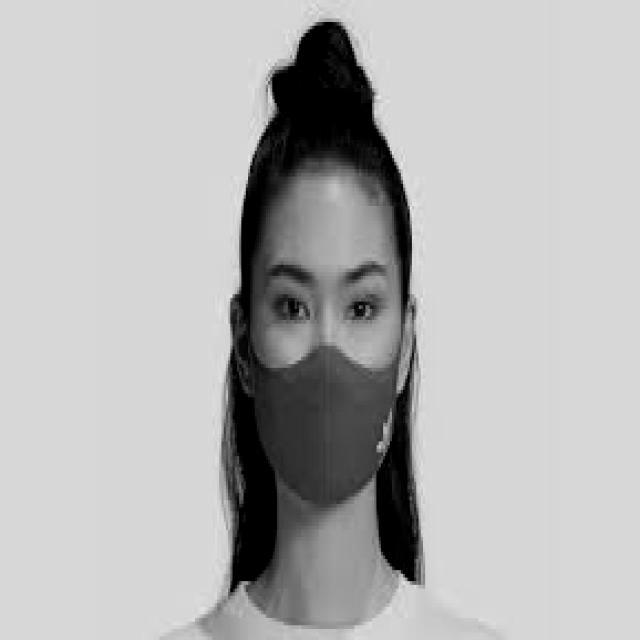fake: (224, 296, 422, 518)
real: (252, 165, 406, 523)
